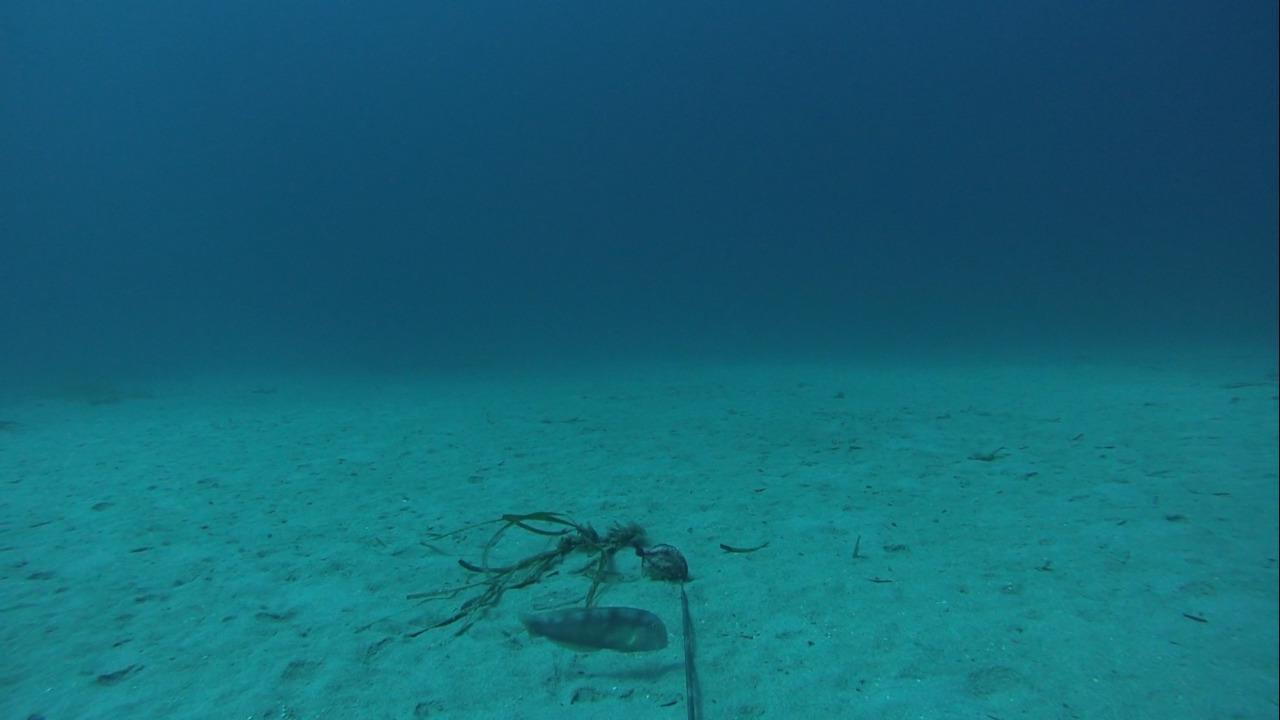raor: (507, 601, 672, 662)
